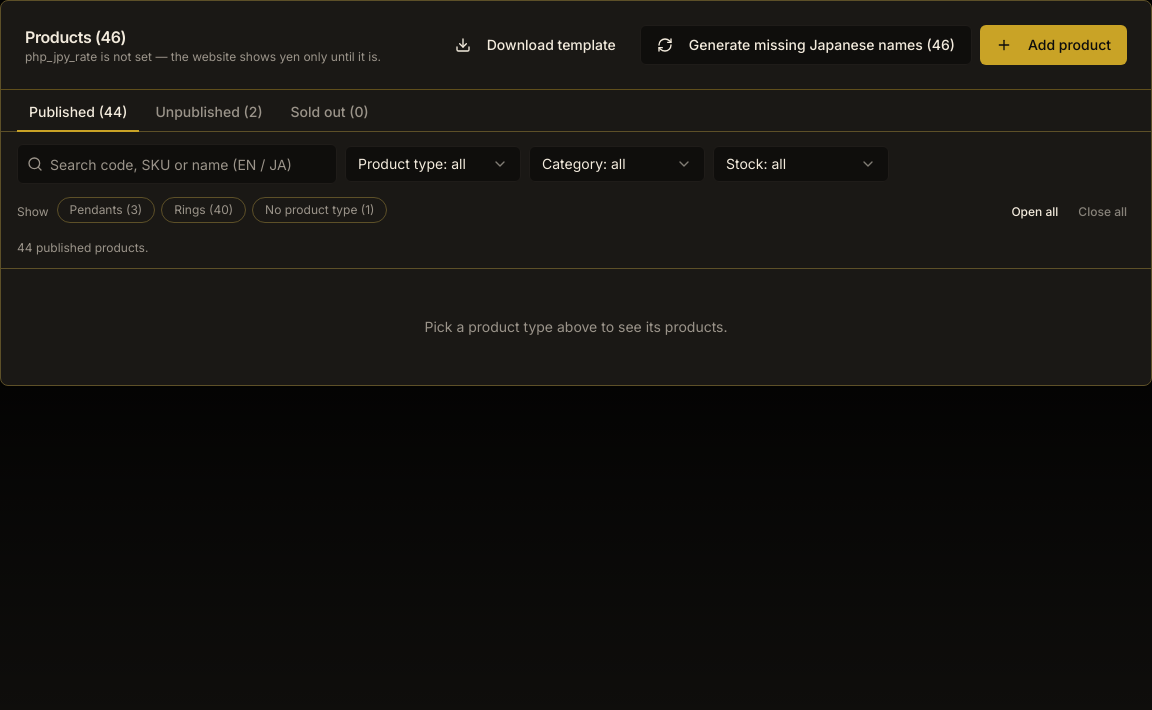
Test: Catalog: product types picked by chip, with paging › a chip shows its type (25 a page, no heading) and is pressed; clicking it again hides the list
This screenshot has width=1152, height=710.
Click the button "Rings (40)".
click(204, 210)  # box [161,197,246,223]
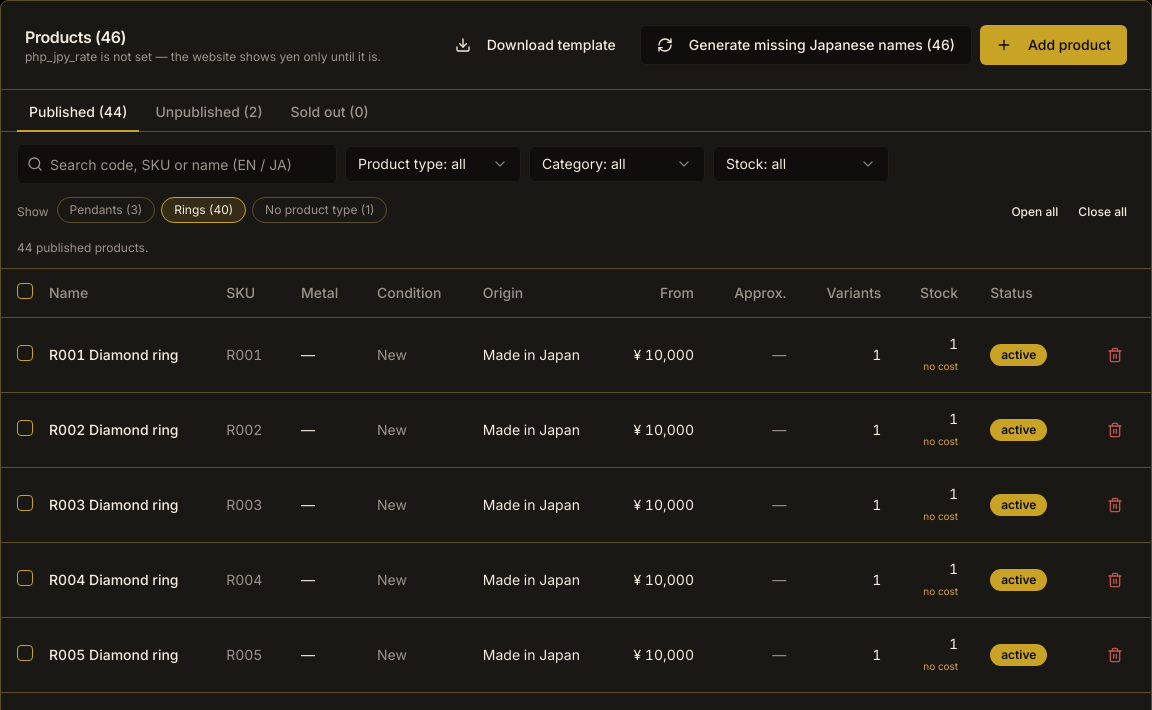
Check: the number of checkboxes named "Select R001" is 25
Click the button "Rings (40)".
click(204, 210)  # box [161,197,246,223]
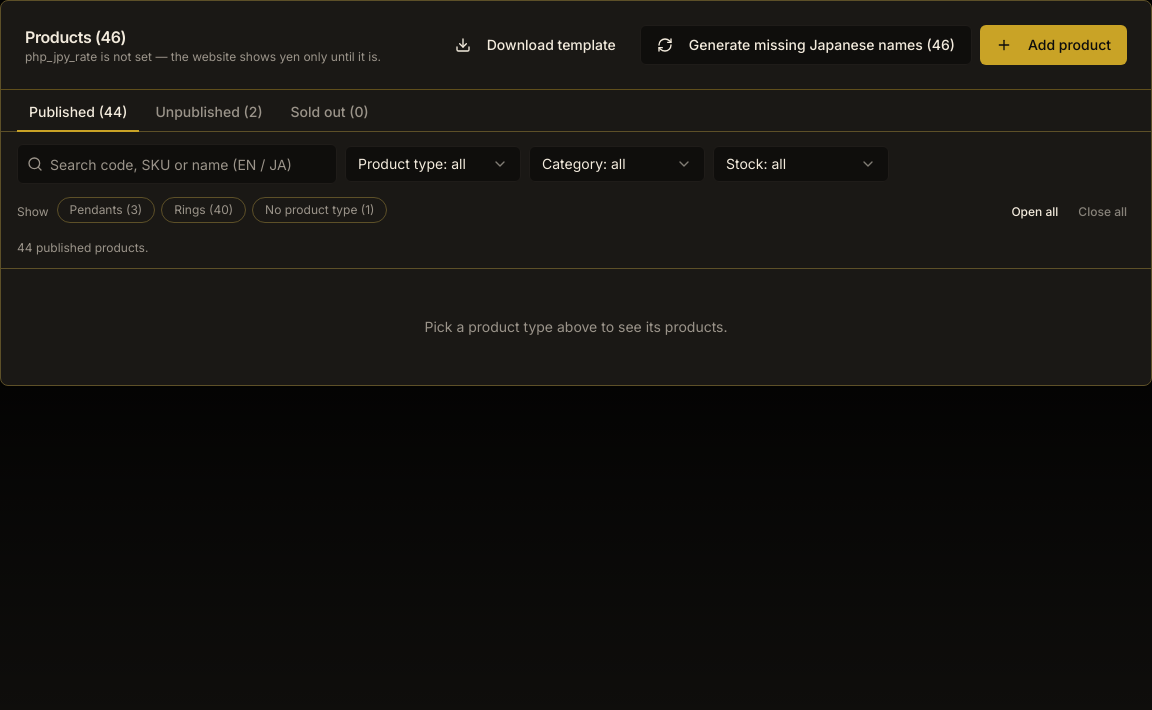
Check: the text "Pick a product type above to see its products." is shown, box [424,318,728,335]
